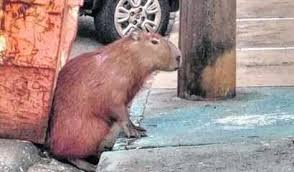capivara: (48, 29, 181, 170)
